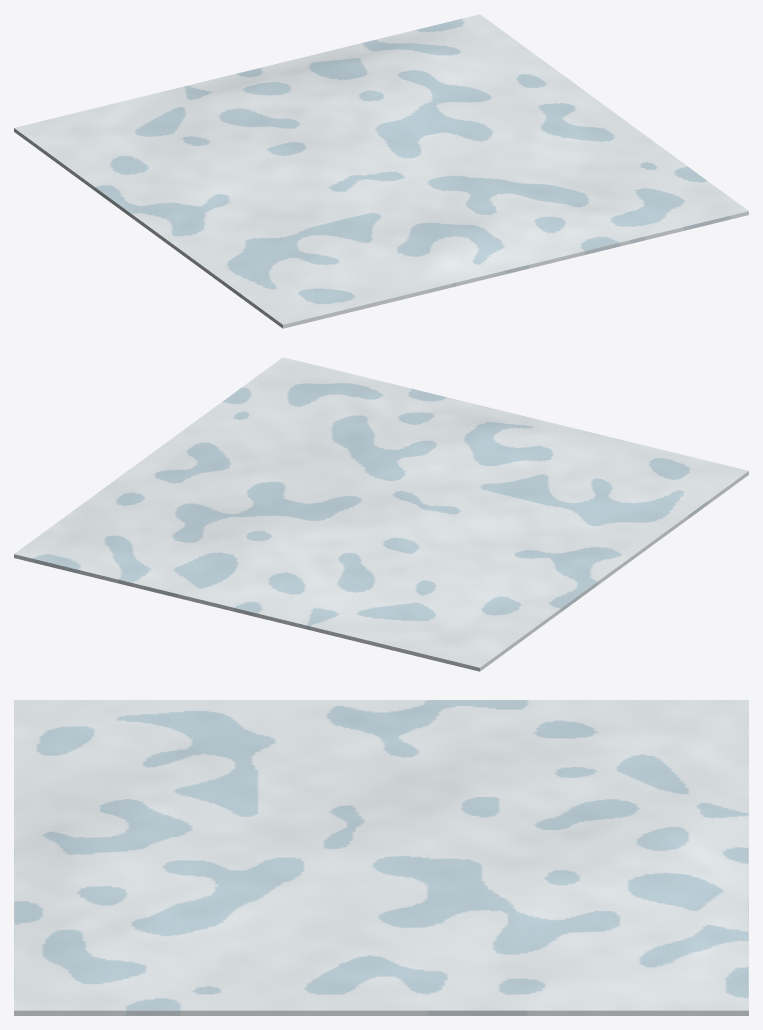
File: Snow_Flat_11.obj
The picture shows the model from 3 angles, top to bottom: view 1: azimuth 30°, elevation 25°; view 2: azimuth 150°, elevation 25°; view 3: azimuth 270°, elevation 25°; orthographic projection. The views are drawn at different scales.
Bounding box in the file's own units: 10 × 0.3146 × 10.
1 material, 1 textured.
